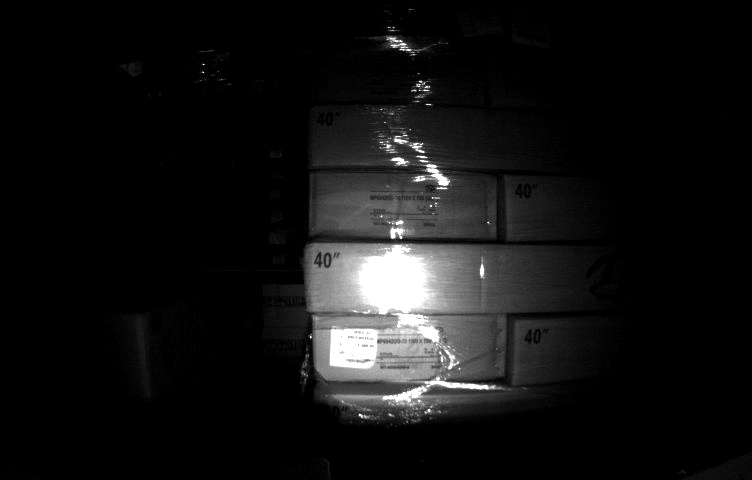True Barcode: (327, 323, 378, 368)
